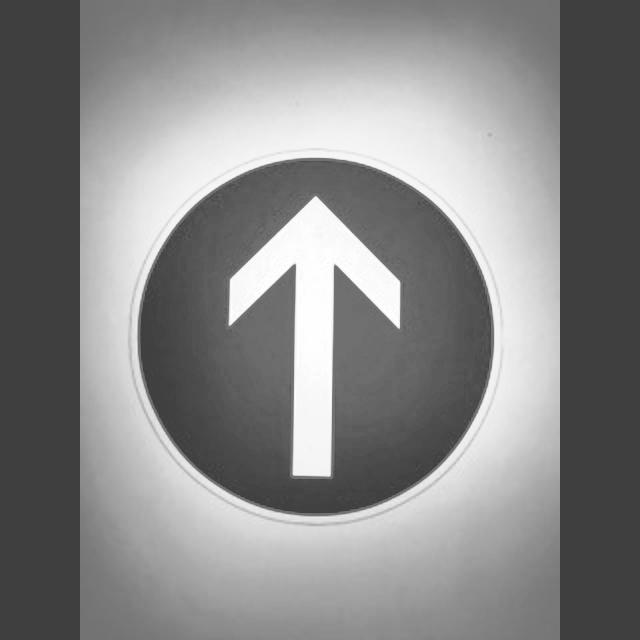GO FORWARD: (134, 148, 500, 522)
